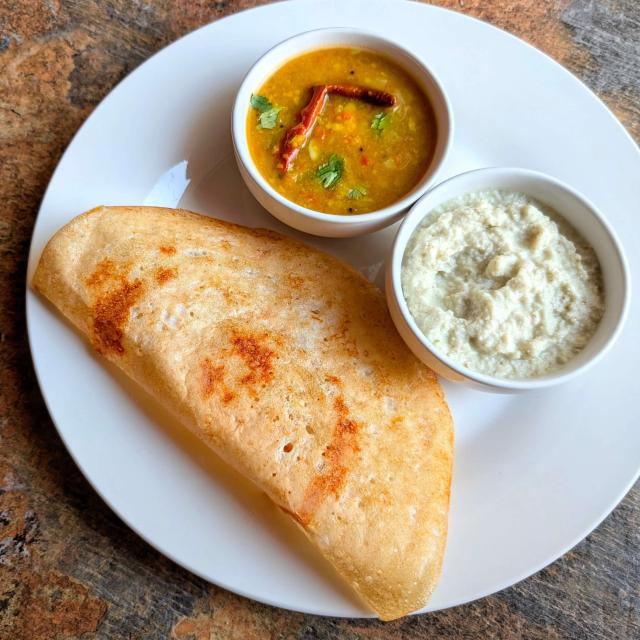plain dosa: (32, 199, 455, 625)
